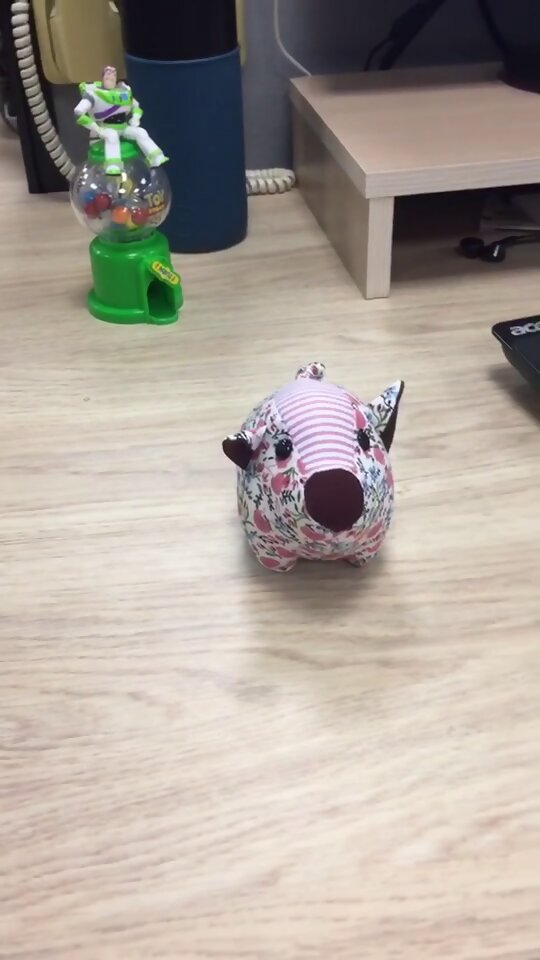pig: (215, 362, 407, 572)
